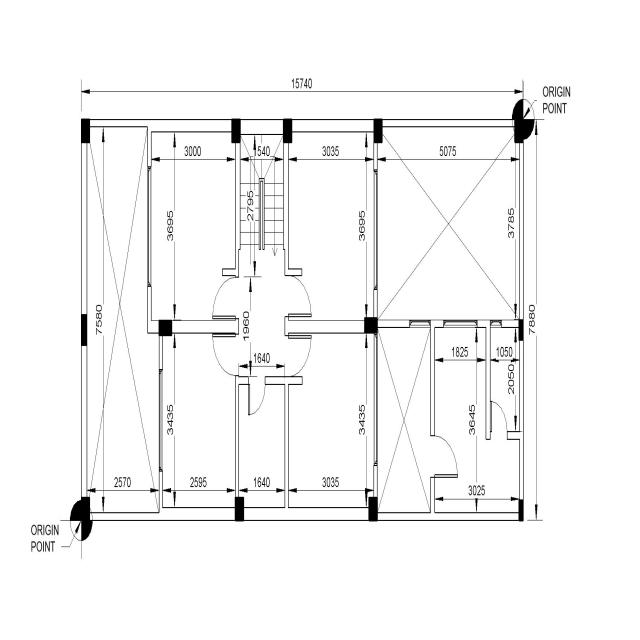Column: (368, 497, 378, 521), (231, 119, 241, 143), (514, 119, 524, 143), (364, 317, 378, 334), (81, 119, 90, 143), (81, 497, 90, 521), (235, 497, 244, 521), (283, 119, 292, 143), (373, 119, 382, 143), (159, 320, 172, 336), (81, 314, 87, 346), (518, 499, 524, 522), (518, 319, 524, 341)
Door: (284, 332, 312, 378), (284, 275, 312, 321), (212, 275, 239, 321), (212, 332, 239, 377), (430, 435, 458, 478), (248, 376, 265, 415), (490, 401, 507, 440)
Staircase: (241, 134, 283, 276)
Window: (147, 166, 152, 287), (373, 169, 378, 290), (159, 369, 163, 472), (374, 334, 377, 465), (443, 320, 478, 328), (409, 320, 431, 328), (490, 320, 502, 328)
